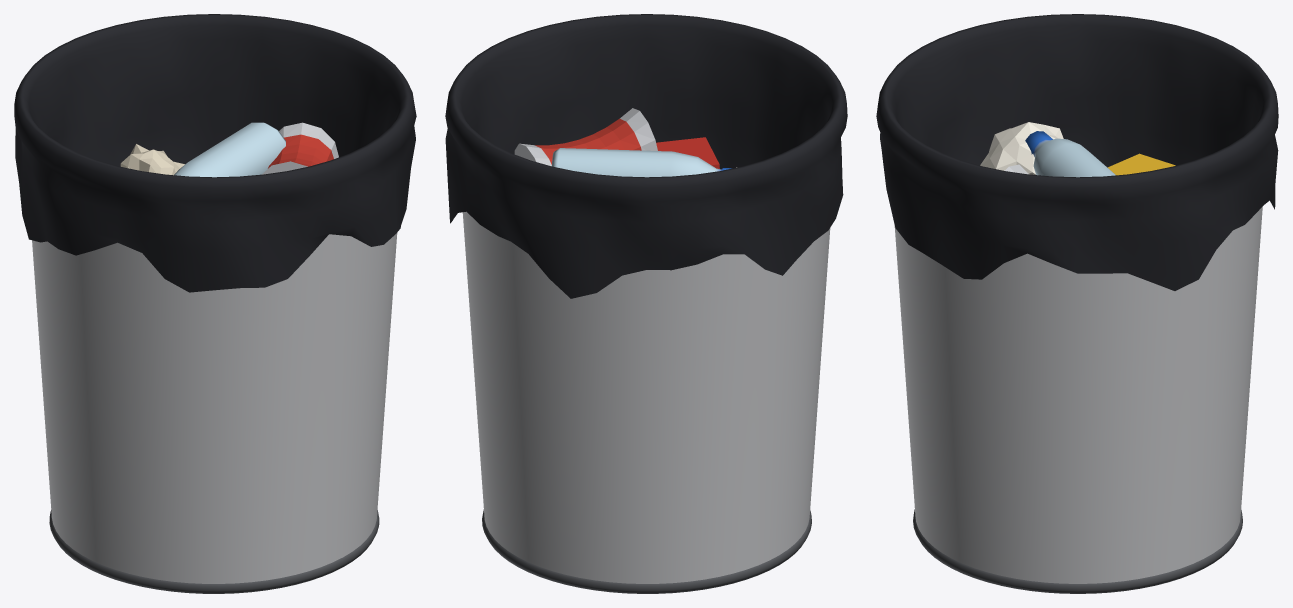
File: trash_can_full_nora_v01.glb
3 views of the same model, side by side, from view 1: azimuth 30°, elevation 25°; view 2: azimuth 150°, elevation 25°; view 3: azimuth 270°, elevation 25° (orthographic).
Visible parts, largest first — view 1: Body shell, trash_bag, trash_bottle, Foot ring, trash_can_crushed, trash_paper_3; view 2: Body shell, trash_bag, trash_bottle, Foot ring, trash_can_crushed, trash_box_1; view 3: Body shell, trash_bag, Foot ring, trash_bottle, trash_paper_1, trash_box_2.
Part boxes in pixels (x1,y1,x2,y2): Body shell: (32, 233, 397, 583); trash_bag: (14, 14, 416, 292); trash_bottle: (174, 122, 285, 177); Foot ring: (49, 510, 379, 593); trash_can_crushed: (262, 122, 338, 174); trash_paper_3: (120, 144, 184, 175); Body shell: (462, 211, 830, 583); trash_bag: (445, 14, 847, 298); trash_bottle: (552, 148, 731, 177); Foot ring: (482, 509, 811, 593); trash_can_crushed: (514, 108, 657, 166); trash_box_1: (656, 137, 719, 168); Body shell: (894, 207, 1262, 583); trash_bag: (876, 14, 1278, 290); Foot ring: (913, 509, 1242, 593); trash_bottle: (1025, 131, 1115, 177); trash_paper_1: (980, 122, 1063, 174); trash_box_2: (1107, 153, 1175, 175).
Bounding box in the file's own units: 0.256 × 0.3018 × 0.2559.
